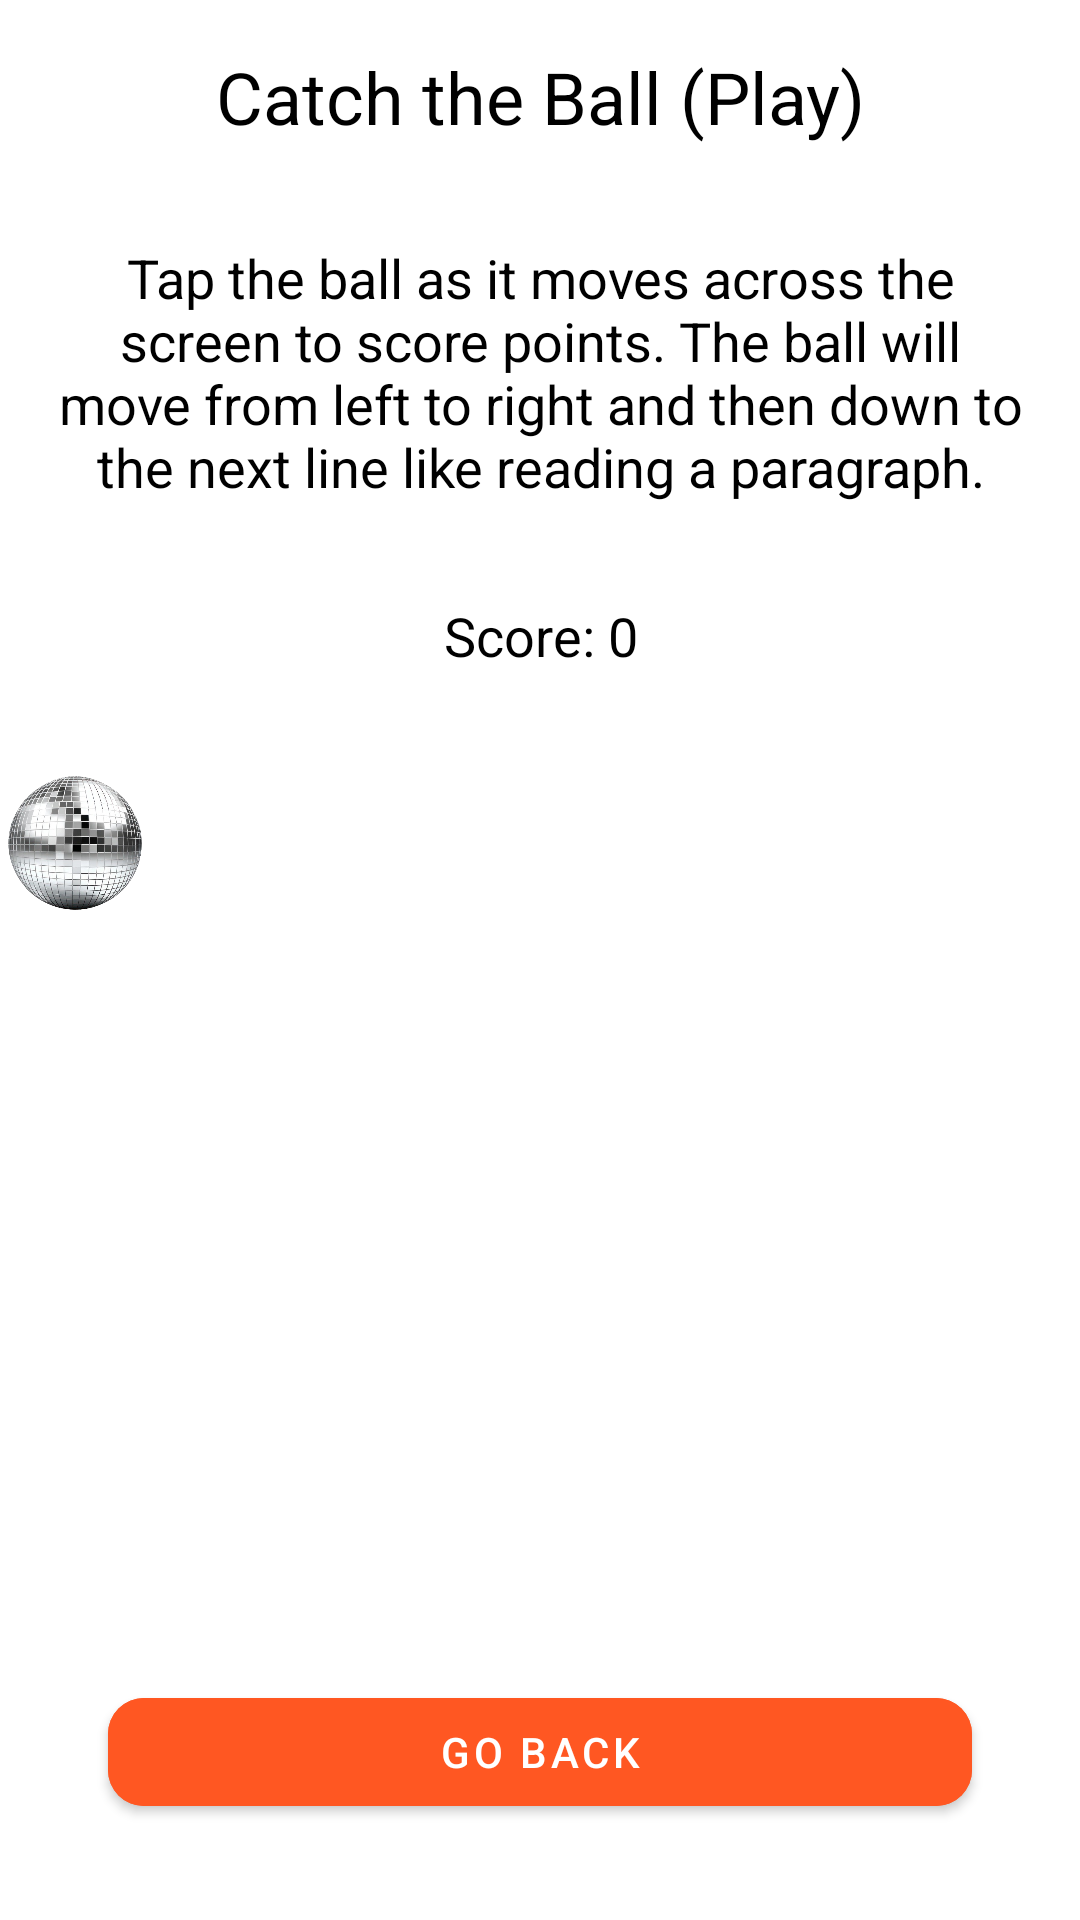

Icons on this 1080w x 1920h Android screen, each with the point to tap as [x,y]:
ball: [75,843]
